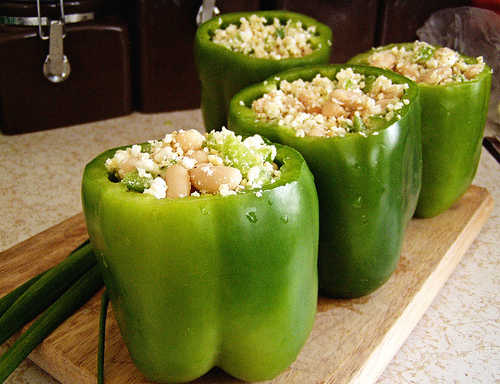capsicum: (80, 128, 321, 383), (227, 62, 427, 301), (347, 41, 493, 218), (198, 11, 331, 133)
